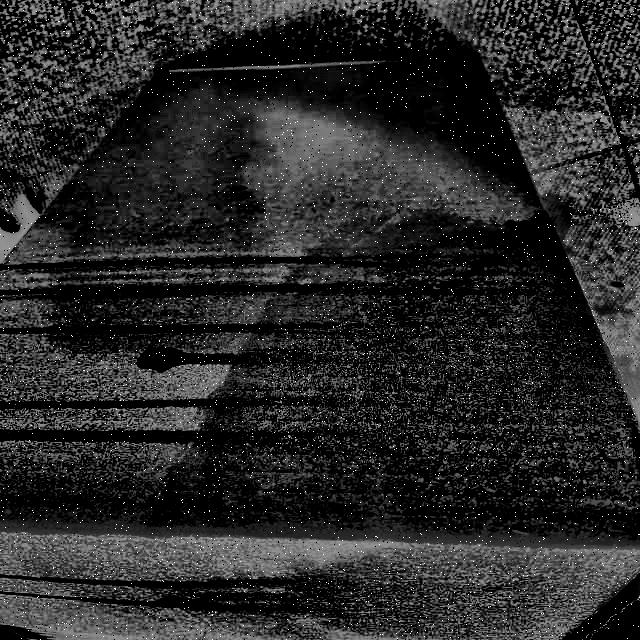box: (1, 48, 640, 640)
wet: (162, 213, 640, 542)
